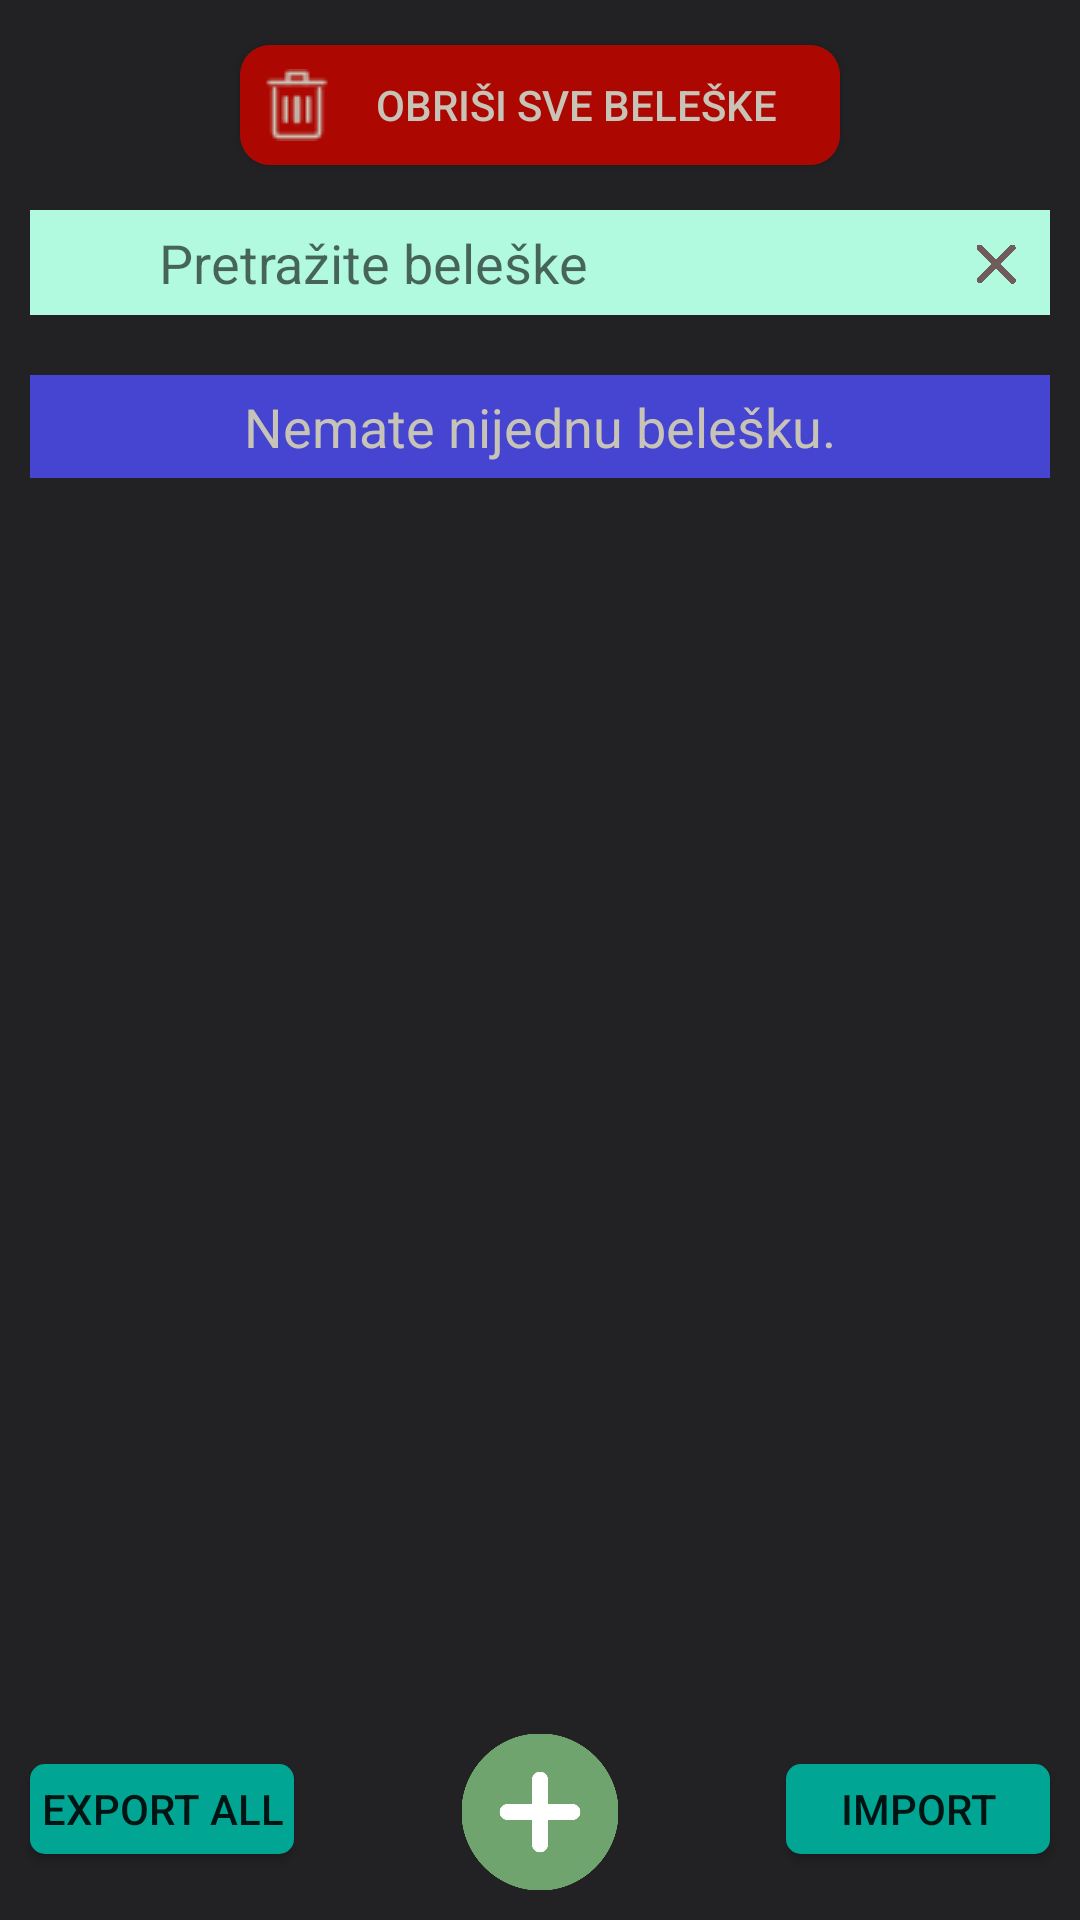

Where to tap for icons on this 1080 x 1920 app screen, as point (x, y):
addnote plus: point (540, 1812)
